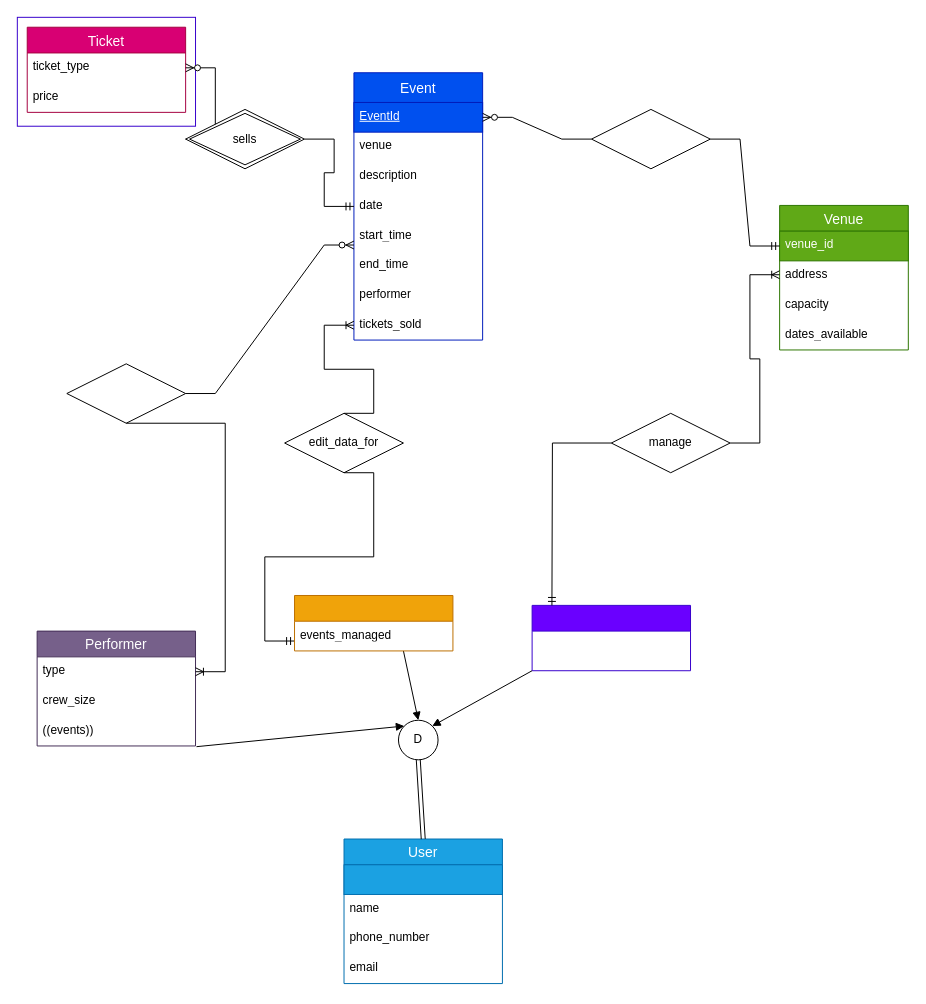
Some shapes in this 926 by 1004 pixel diagram are drawn without their labels. The shapes that lost their labels are listed below. From the top down, each one's box as (x1, y1, x2, y2) in pixels, then its label:
(591, 108, 710, 169): is_at
(66, 363, 186, 423): performs_at
(294, 594, 453, 651): Organizer
(531, 604, 691, 671): Owner
(343, 864, 502, 894): user_id
